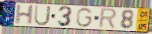3: (57, 6, 74, 28)
8: (120, 9, 135, 31)
G: (76, 7, 95, 28)
H: (14, 4, 36, 26)
R: (97, 7, 119, 30)
U: (33, 5, 52, 27)
